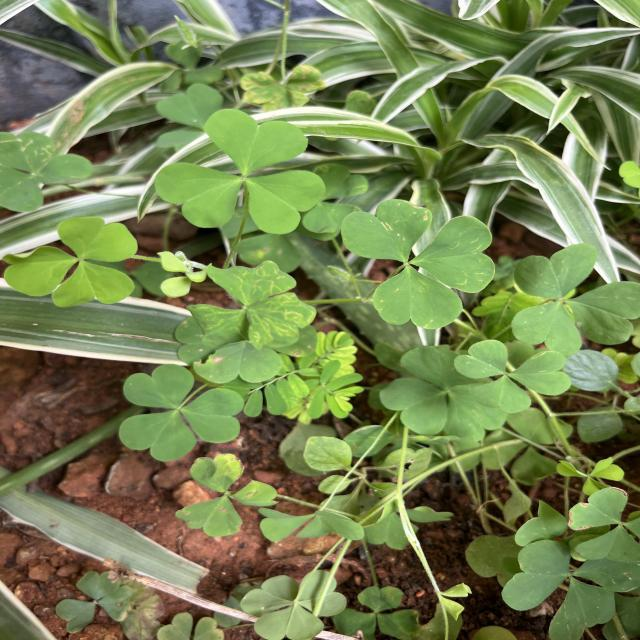Oxalis corniculata: (152, 107, 328, 236), (339, 198, 497, 332), (510, 242, 640, 358), (1, 214, 140, 308), (117, 362, 246, 462), (378, 345, 509, 443), (184, 260, 318, 351), (452, 338, 572, 414), (174, 452, 279, 538), (566, 486, 640, 562)
